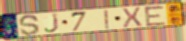7: (69, 11, 90, 32)
E: (143, 5, 168, 27)
I: (103, 9, 112, 30)
J: (43, 12, 62, 34)
S: (18, 14, 41, 37)
X: (121, 6, 144, 29)
